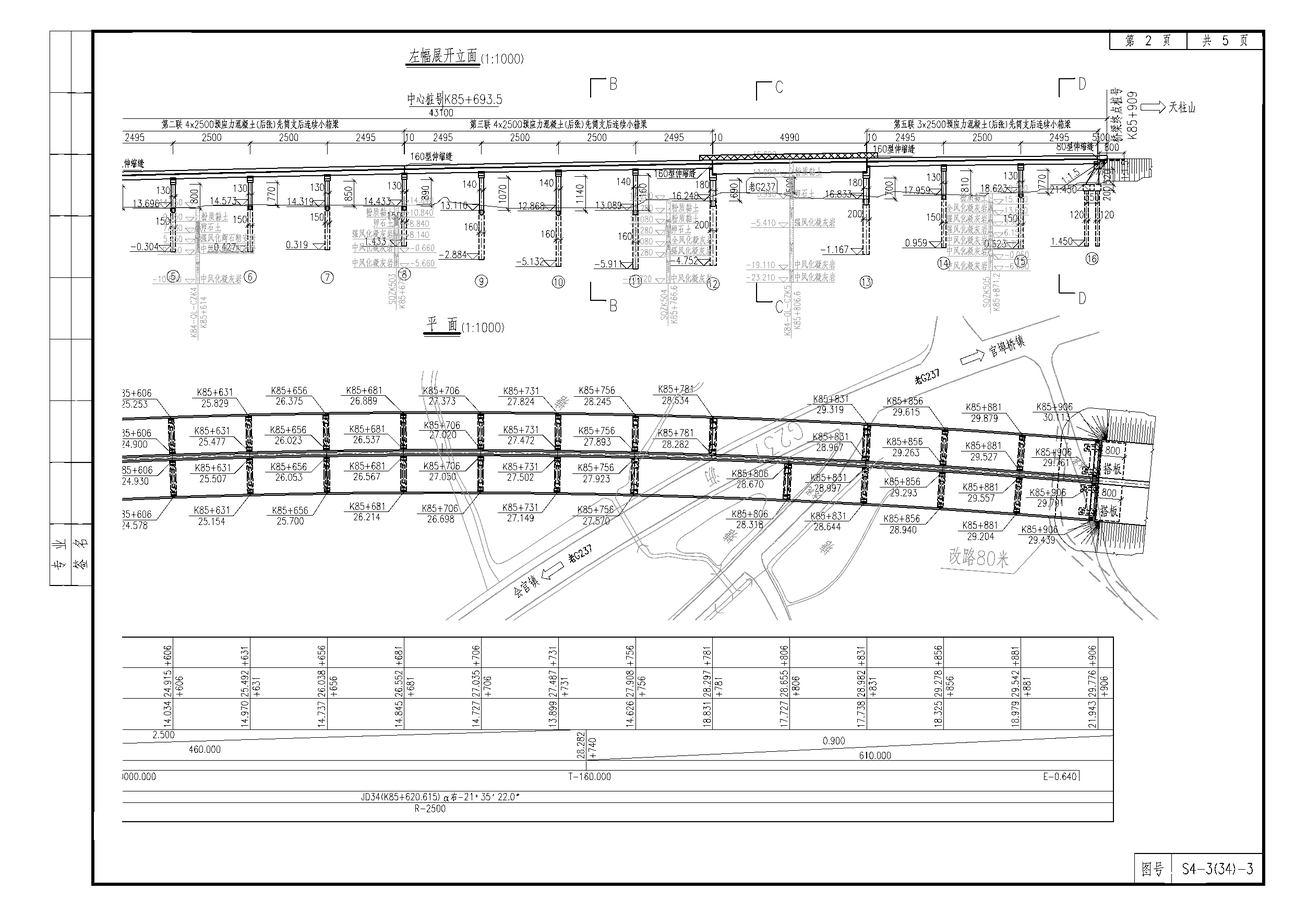A: (120, 44, 1208, 327)
